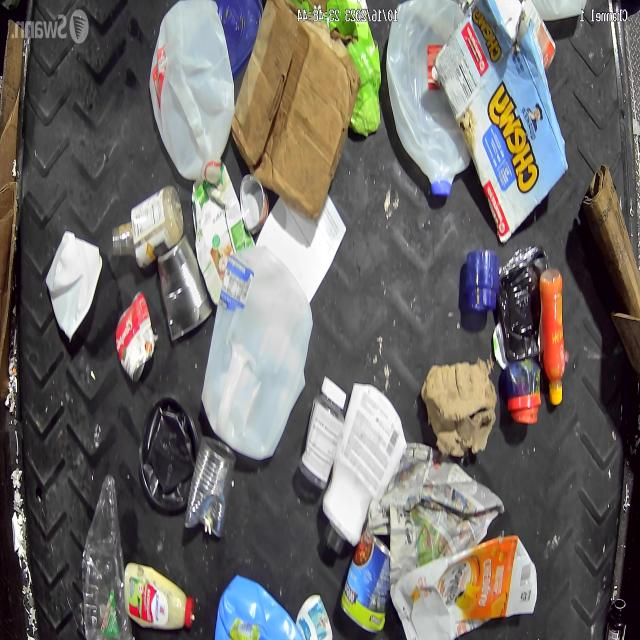can: (156, 238, 210, 342), (342, 527, 389, 628), (185, 437, 231, 534), (114, 290, 154, 383), (238, 174, 270, 233)
milk_jug: (203, 246, 312, 460), (384, 0, 468, 199), (148, 0, 235, 184), (518, 1, 592, 22)
non_white_jug: (390, 533, 538, 640), (213, 574, 302, 640), (123, 563, 197, 635)
plastic_bottle: (81, 472, 133, 640)
